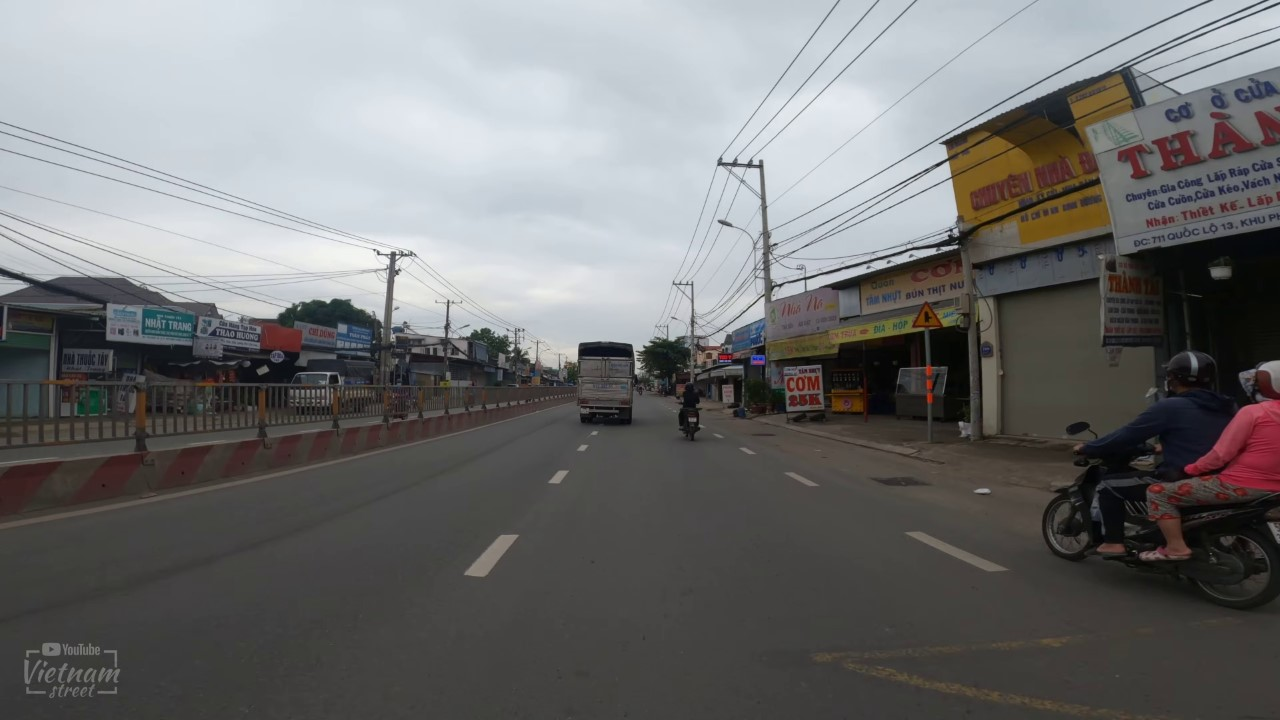giao_khong_uu_tien_phai: (909, 299, 944, 331)
